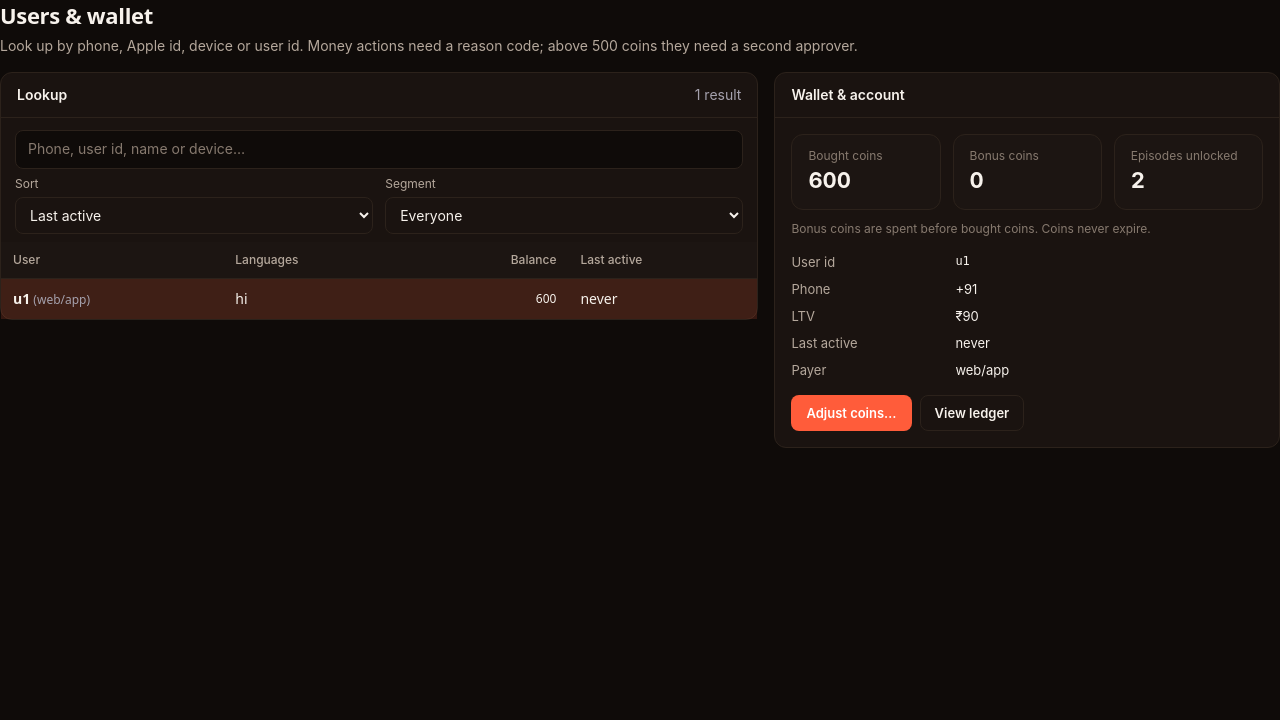
Scenario: Users — refusals, permissions and pending tabs › read-only roles see the no-money message in the adjust dialog
Click the button "Adjust coins…" at point(852, 413), box [791, 395, 912, 431]
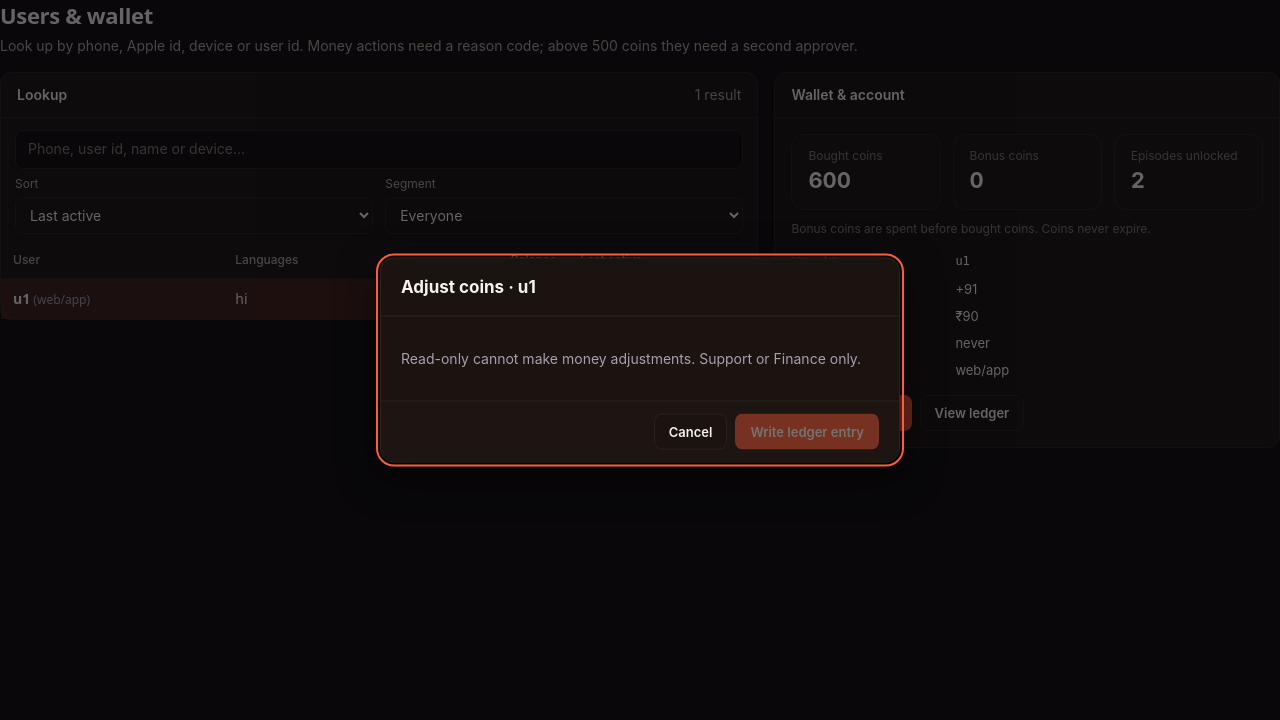
Expected: the text "cannot make money adjustments" is shown, [469, 349, 861, 366]
